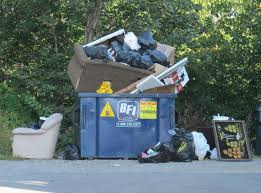Dumpster: (77, 87, 178, 165)
